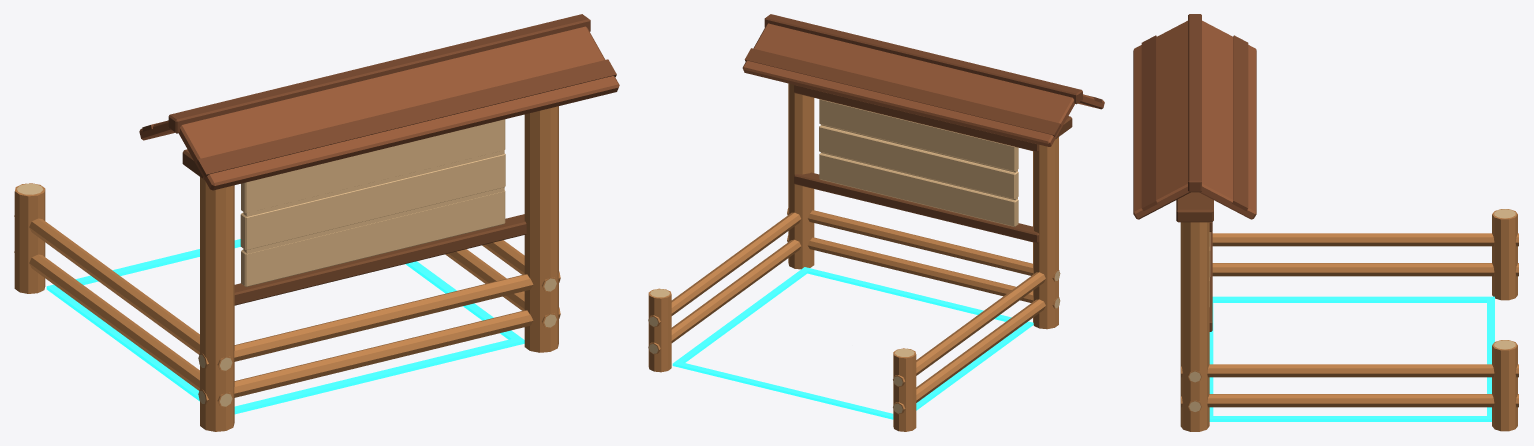
File: party_booth.glb
3 views of the same model, side by side, from view 1: azimuth 30°, elevation 25°; view 2: azimuth 150°, elevation 25°; view 3: azimuth 270°, elevation 25° (orthographic). The views are drawn at different scales.
Visible parts, largest first — view 1: Wood__C4844C, WoodPlanks__E2BA88, WoodPlanks__965A38, WoodPlanks__7C4A2E, Neon__28E6FF, Wood__784A2C, Wood__DEBC8C; view 2: Wood__C4844C, WoodPlanks__E2BA88, WoodPlanks__965A38, WoodPlanks__7C4A2E, Wood__784A2C, Neon__28E6FF, Wood__DEBC8C; view 3: Wood__C4844C, WoodPlanks__965A38, WoodPlanks__7C4A2E, Neon__28E6FF, Wood__784A2C, Wood__DEBC8C.
Part boxes in pixels (x1=…): Wood__C4844C: x1=14, y1=106, x2=560, y2=431; WoodPlanks__E2BA88: x1=240, y1=119, x2=505, y2=286; WoodPlanks__965A38: x1=139, y1=26, x2=619, y2=190; WoodPlanks__7C4A2E: x1=142, y1=14, x2=616, y2=177; Neon__28E6FF: x1=46, y1=239, x2=524, y2=414; Wood__784A2C: x1=182, y1=149, x2=526, y2=305; Wood__DEBC8C: x1=17, y1=183, x2=556, y2=406; Wood__C4844C: x1=648, y1=83, x2=1060, y2=431; WoodPlanks__E2BA88: x1=819, y1=99, x2=1018, y2=226; WoodPlanks__965A38: x1=742, y1=23, x2=1104, y2=146; WoodPlanks__7C4A2E: x1=744, y1=14, x2=1102, y2=136; Wood__784A2C: x1=794, y1=85, x2=1072, y2=243; Neon__28E6FF: x1=672, y1=267, x2=1033, y2=419; Wood__DEBC8C: x1=648, y1=271, x2=1060, y2=413; Wood__C4844C: x1=1180, y1=209, x2=1518, y2=431; WoodPlanks__965A38: x1=1133, y1=20, x2=1256, y2=219; WoodPlanks__7C4A2E: x1=1141, y1=14, x2=1248, y2=211; Neon__28E6FF: x1=1209, y1=296, x2=1494, y2=421; Wood__784A2C: x1=1176, y1=192, x2=1213, y2=331; Wood__DEBC8C: x1=1189, y1=209, x2=1515, y2=411.
Bounding box in the file's own units: 16.9 × 12.38 × 16.45.
